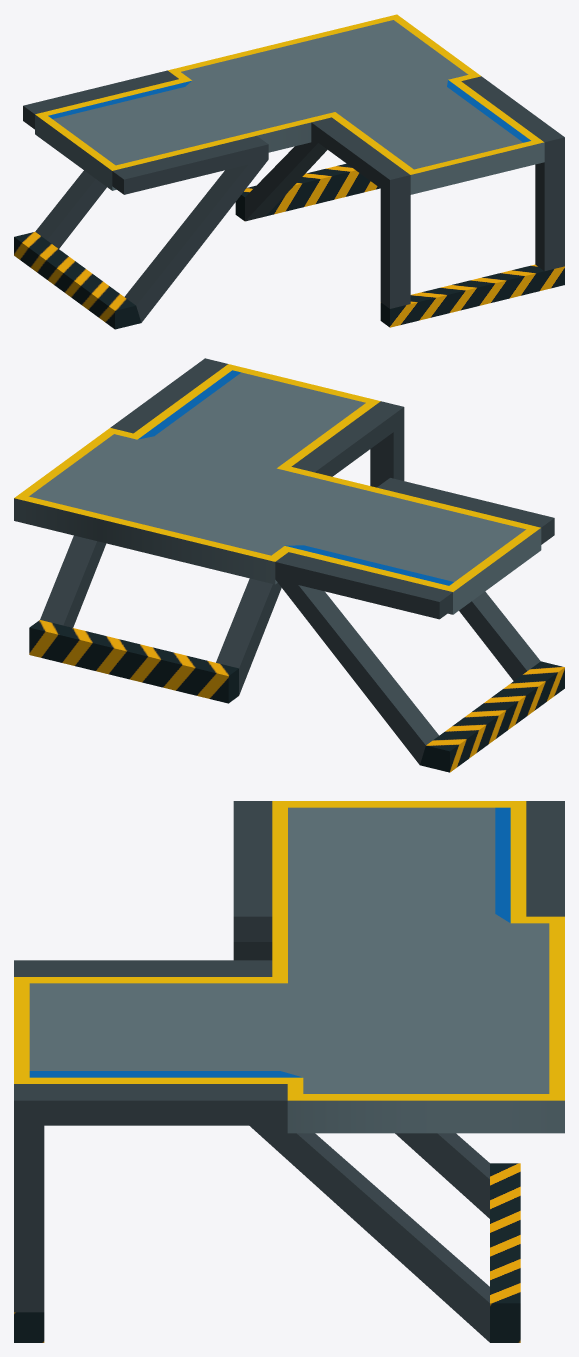
The model's file is Desk_009.fbx.
The picture shows the model from 3 angles, top to bottom: view 1: azimuth 30°, elevation 25°; view 2: azimuth 150°, elevation 25°; view 3: azimuth 270°, elevation 25°; orthographic projection. The views are drawn at different scales.
Visible parts, largest first — view 1: Desk_009; view 2: Desk_009; view 3: Desk_009.
Boxes of the visible parts, x1,y1,x2,y2 form: Desk_009: (14,14,564,329); Desk_009: (14,358,564,772); Desk_009: (14,801,564,1342).
Size of the model in its own units: 230 by 175 by 84.83.
